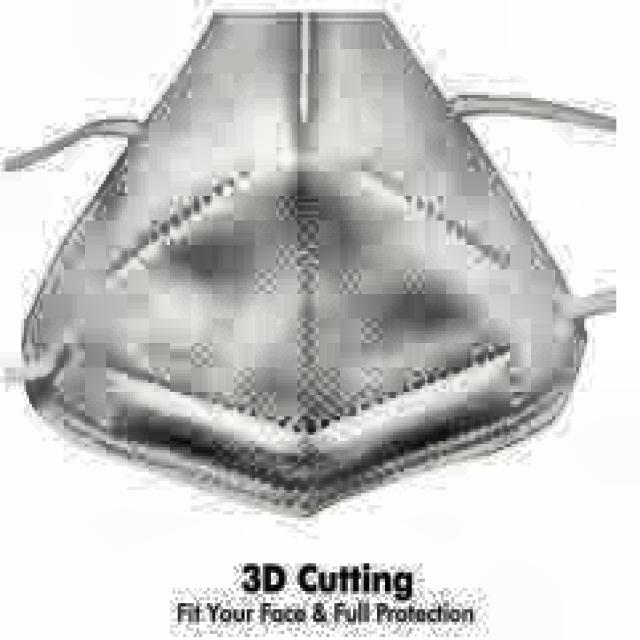trash: (18, 13, 592, 515)
